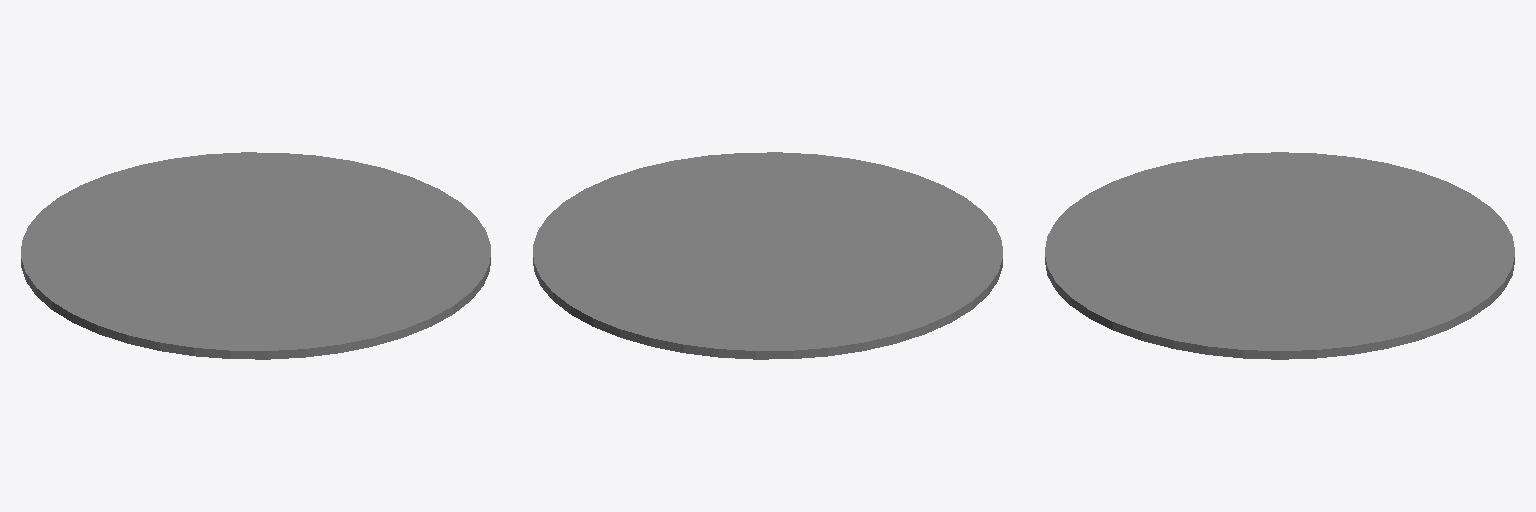
Rendered from floor_rotating.obj.
3 views of the same model, side by side, from view 1: azimuth 30°, elevation 25°; view 2: azimuth 150°, elevation 25°; view 3: azimuth 270°, elevation 25° (orthographic).
Visible parts, largest first — view 1: pCylinder6; view 2: pCylinder6; view 3: pCylinder6.
Boxes of the visible parts, x1=… form: pCylinder6: x1=21, y1=152, x2=490, y2=359; pCylinder6: x1=533, y1=152, x2=1002, y2=359; pCylinder6: x1=1045, y1=152, x2=1514, y2=359.
Bounding box in the file's own units: 10 × 0.2 × 10.